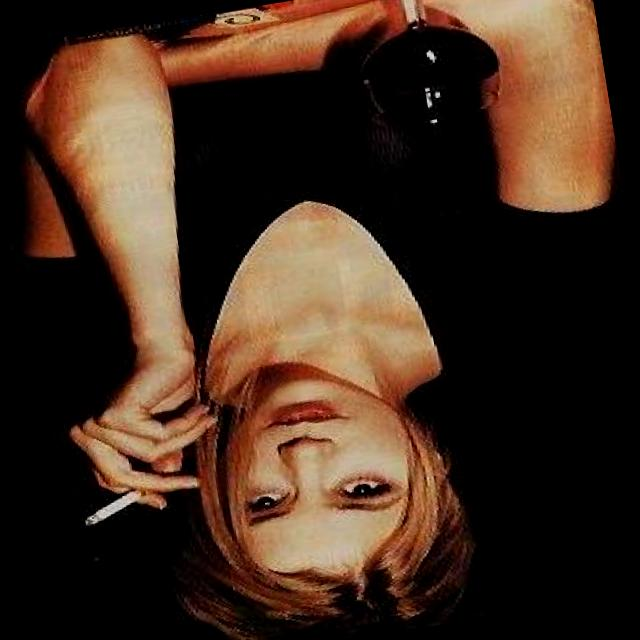cigarette: (62, 468, 166, 547)
